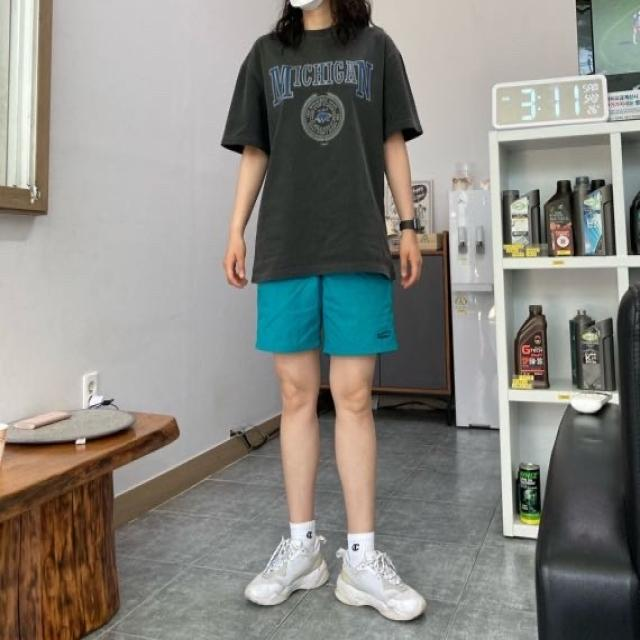shortpants: (257, 269, 399, 357)
shortsleeve: (222, 22, 422, 282)
